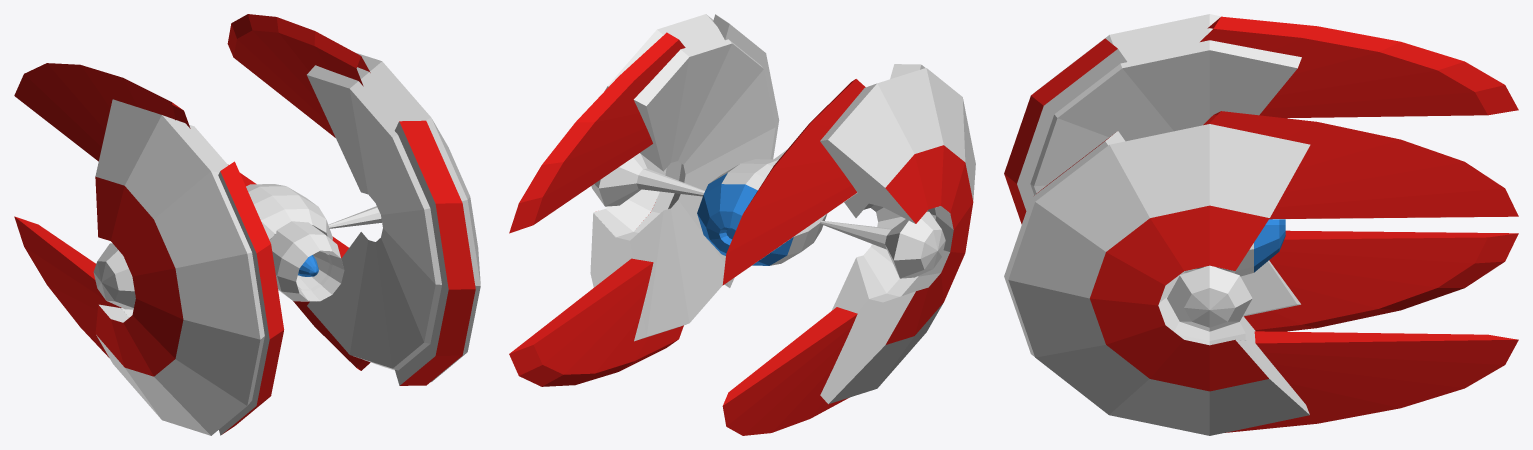
The model's file is enemy.glb.
3 renders of one model, left to right at view 1: azimuth 30°, elevation 25°; view 2: azimuth 150°, elevation 25°; view 3: azimuth 270°, elevation 25°, orthographic. The views are drawn at different scales.
Visible parts, largest first — view 1: Shape_IndexedFaceSet; view 2: Shape_IndexedFaceSet; view 3: Shape_IndexedFaceSet.
Part boxes in pixels (x1=…): Shape_IndexedFaceSet: x1=14, y1=14, x2=480, y2=435; Shape_IndexedFaceSet: x1=509, y1=14, x2=975, y2=435; Shape_IndexedFaceSet: x1=1004, y1=14, x2=1518, y2=435.
Bounding box in the file's own units: 1.42 × 1.25 × 1.81.
